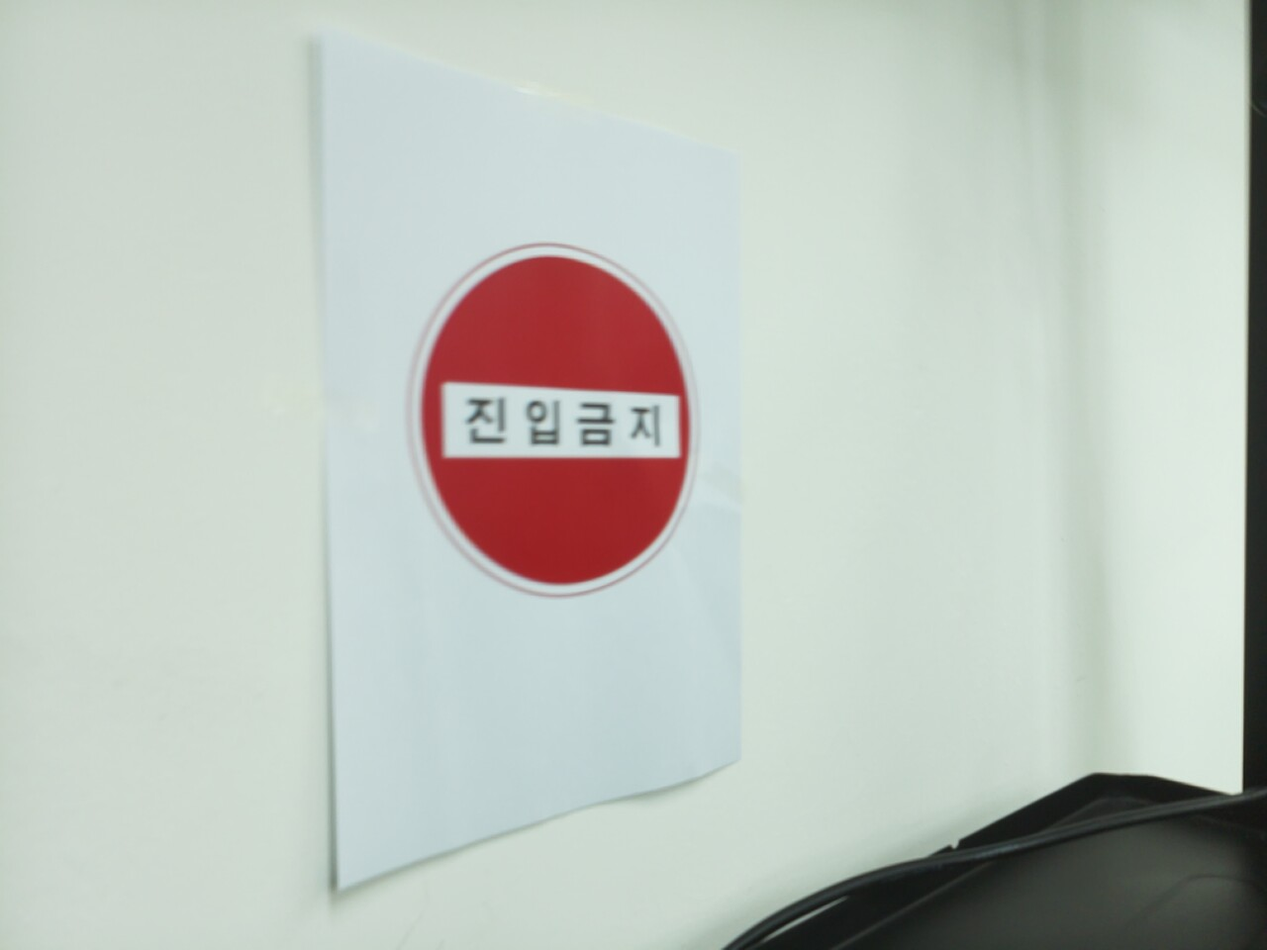do_not_enter: (413, 246, 699, 595)
